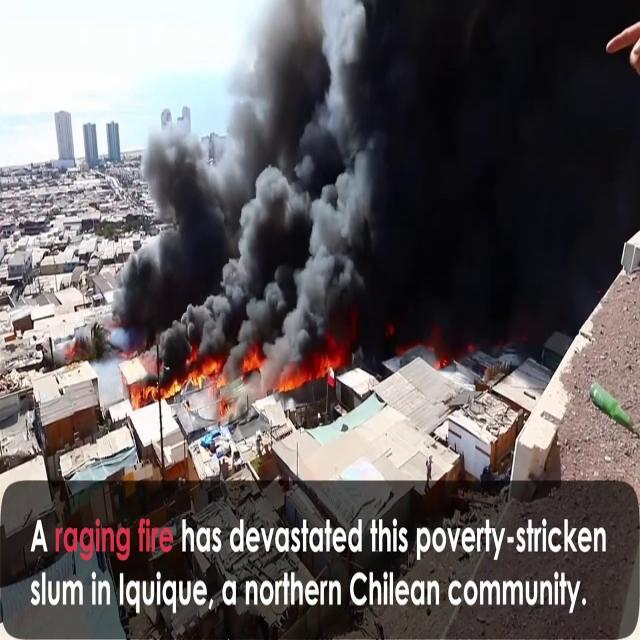Fire: (119, 348, 228, 402), (274, 344, 344, 396)
Smoke: (109, 1, 637, 352)
